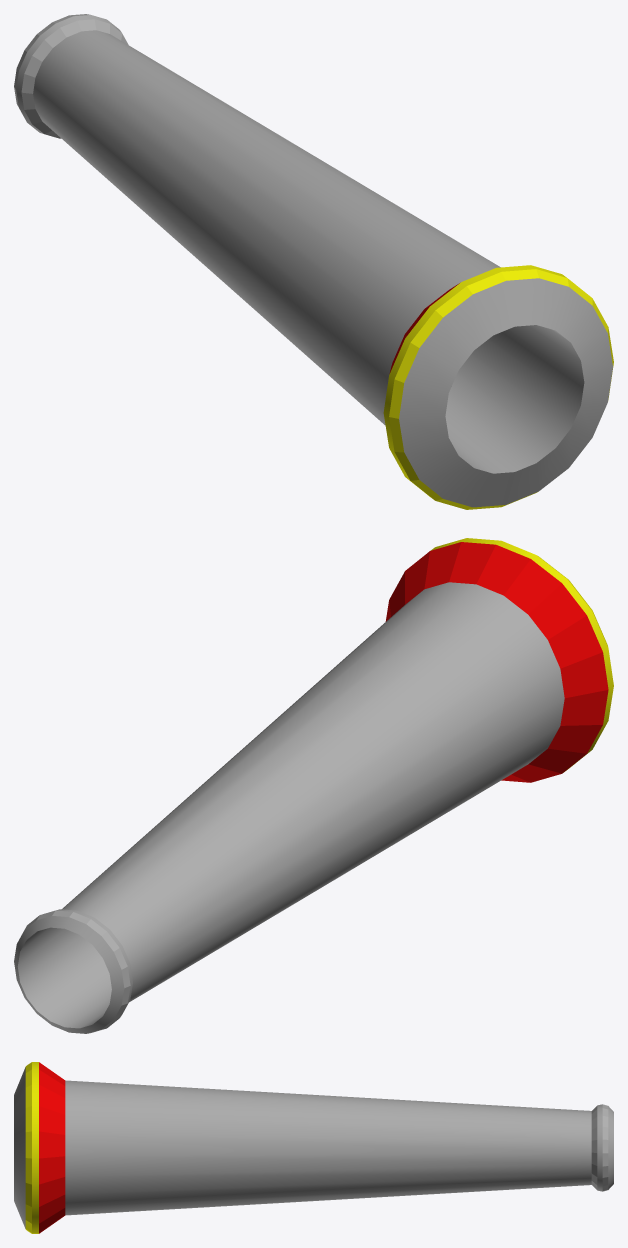
Rendered from gun_a (2).fbx.
3 views of the same model, one above another, from view 1: azimuth 30°, elevation 25°; view 2: azimuth 150°, elevation 25°; view 3: azimuth 270°, elevation 25° (orthographic). The views are drawn at different scales.
Parts seen in each view (by area): view 1: pPipe11; view 2: pPipe11; view 3: pPipe11.
Boxes of the visible parts, x1,y1,x2,y2 form: pPipe11: [14, 14, 613, 509]; pPipe11: [14, 538, 613, 1033]; pPipe11: [14, 1062, 613, 1233].
Bounding box in the file's own units: 2.1 × 2.1 × 7.28.
